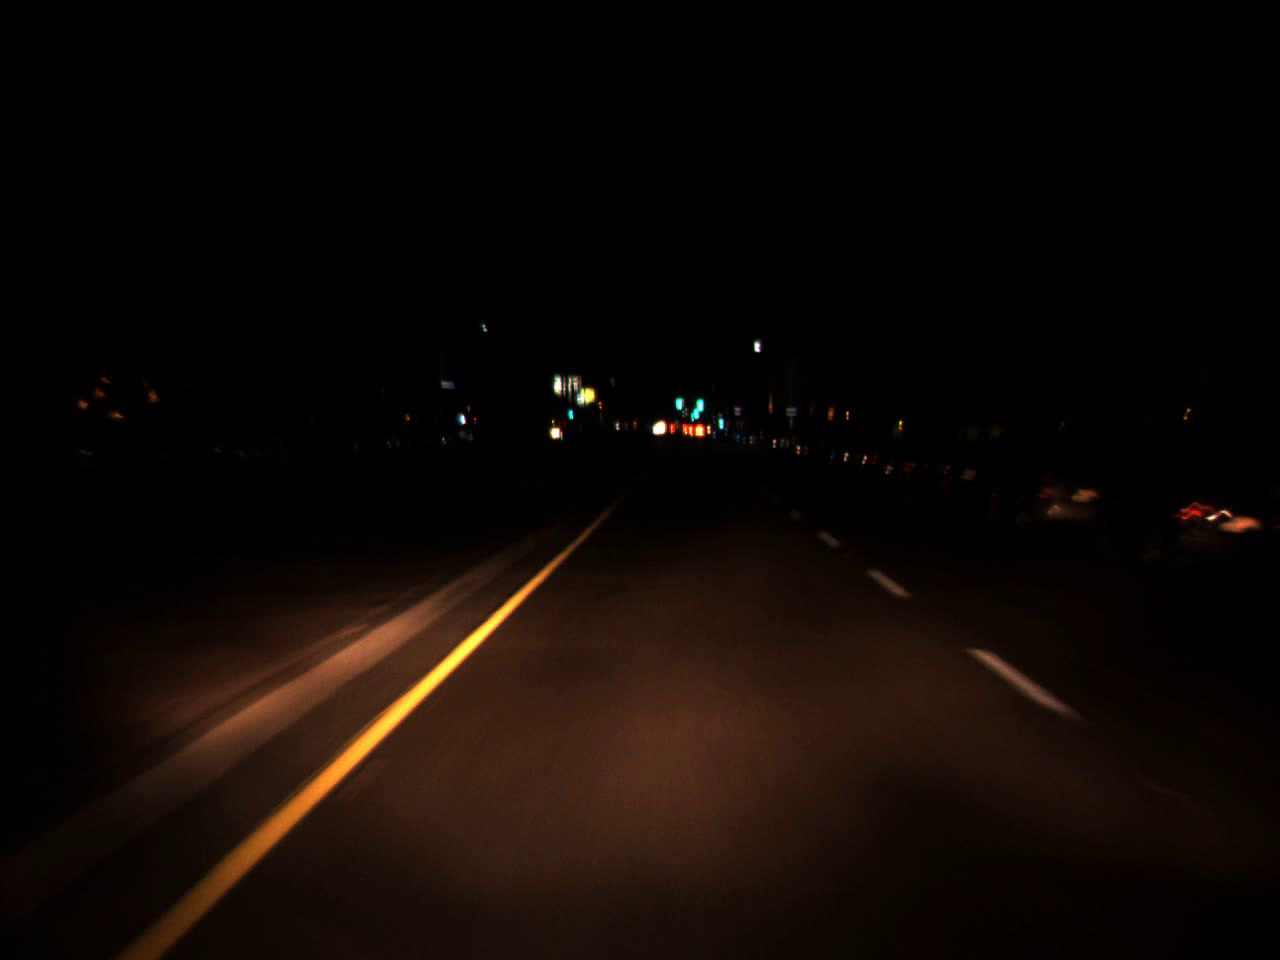go: (687, 394, 703, 421), (673, 384, 683, 414), (692, 392, 703, 407), (717, 408, 724, 432), (567, 400, 574, 421)
